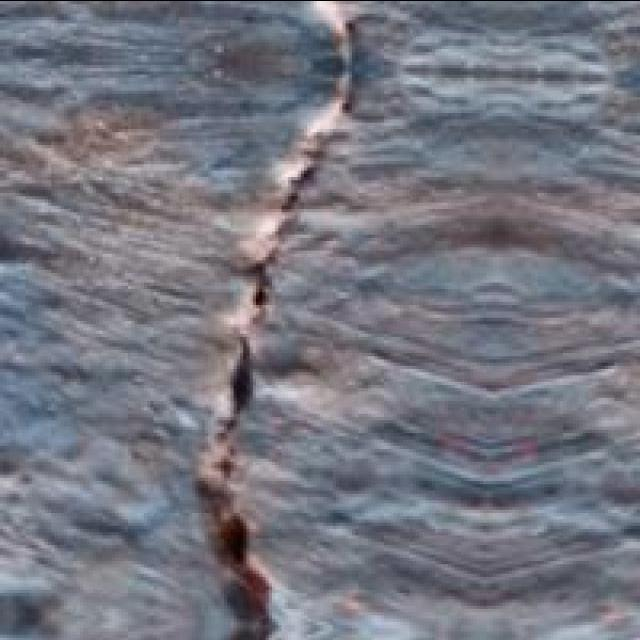SurfaceCrack: (164, 0, 402, 640)
